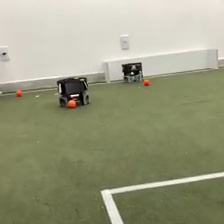ball: (67, 97, 77, 108), (142, 78, 151, 87), (15, 87, 23, 97)
goal: (101, 46, 221, 85)
robot: (54, 73, 90, 109), (120, 61, 145, 84)
